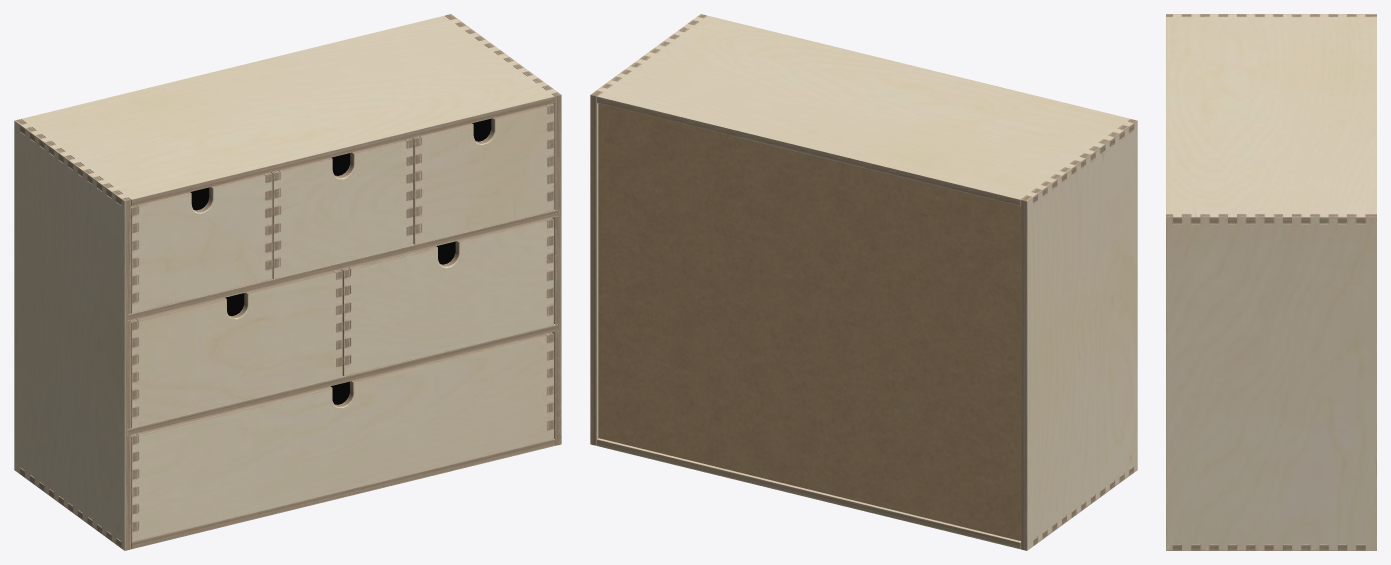
The model's file is MOPPE_40216357.glb.
3 views of the same model, side by side, from view 1: azimuth 30°, elevation 25°; view 2: azimuth 150°, elevation 25°; view 3: azimuth 270°, elevation 25° (orthographic). The views are drawn at different scales.
Visible parts, largest first — view 1: 40216357-MOPPE001; view 2: 40216357-MOPPE001; view 3: 40216357-MOPPE001.
Part boxes in pixels (x1=…): 40216357-MOPPE001: x1=14, y1=14, x2=561, y2=550; 40216357-MOPPE001: x1=590, y1=14, x2=1137, y2=550; 40216357-MOPPE001: x1=1166, y1=14, x2=1376, y2=550.
Bounding box in the file's own units: 0.42 × 0.321 × 0.184.
1 material, 1 textured.
